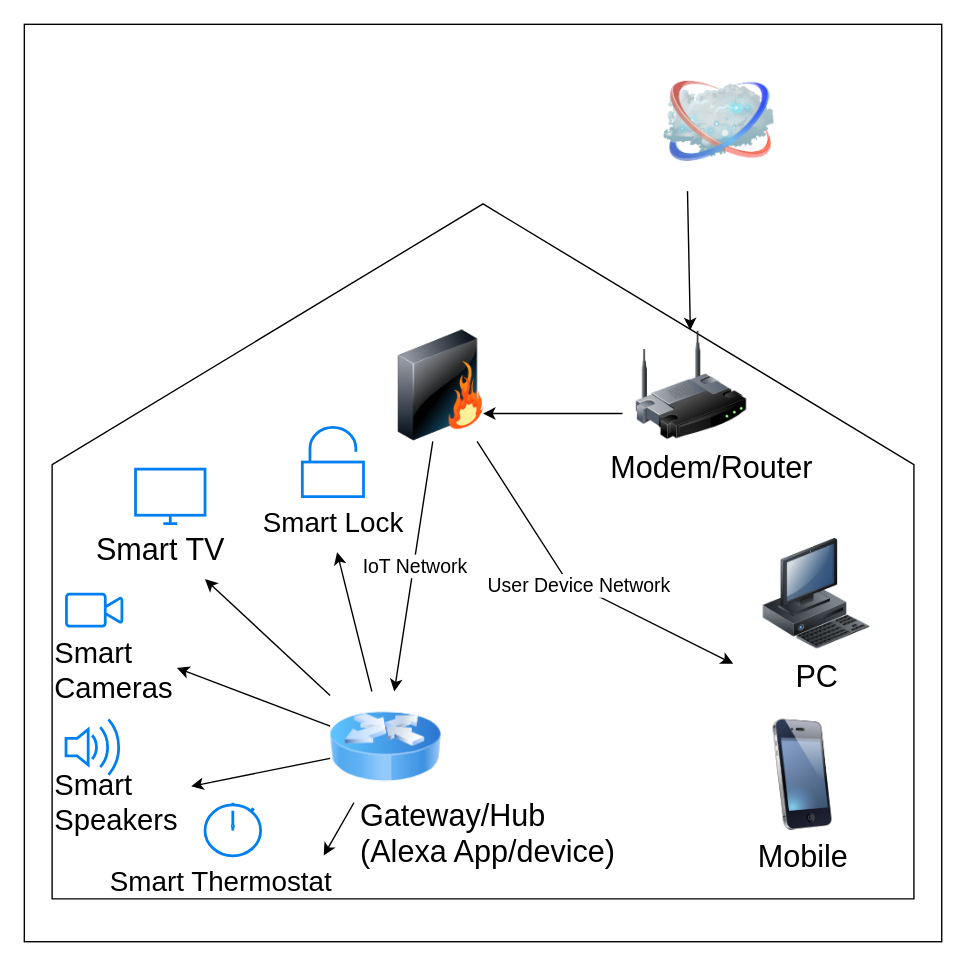
Image size: 966x966. Some labels were removed from this diagram. The shapes that lost their labels are listed below. From the top down, each one's centre as x and y in pixels, then its label:
At point (718, 121): "Internet".
At point (440, 385): "Firewall".
